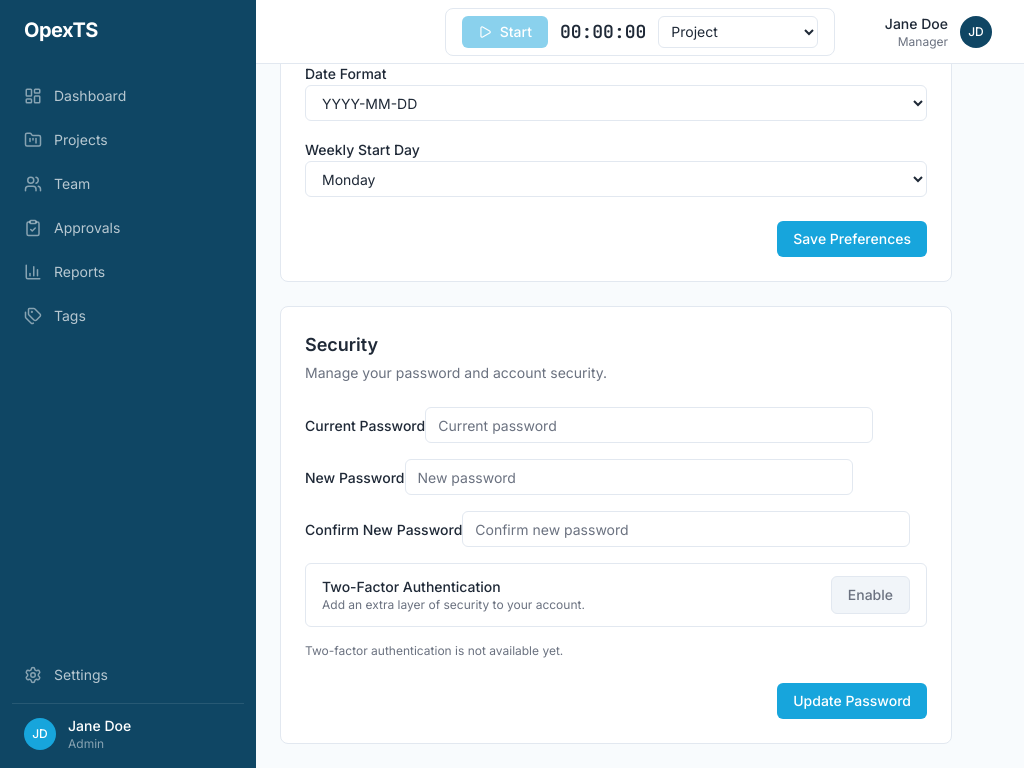
Test case: Profile page › posts a password change and clears the form on success
(page scrolled)
Type "old-pass" into the password field labelled "Current Password".
click(649, 425); type("old-pass")  # box [425,407,873,443]
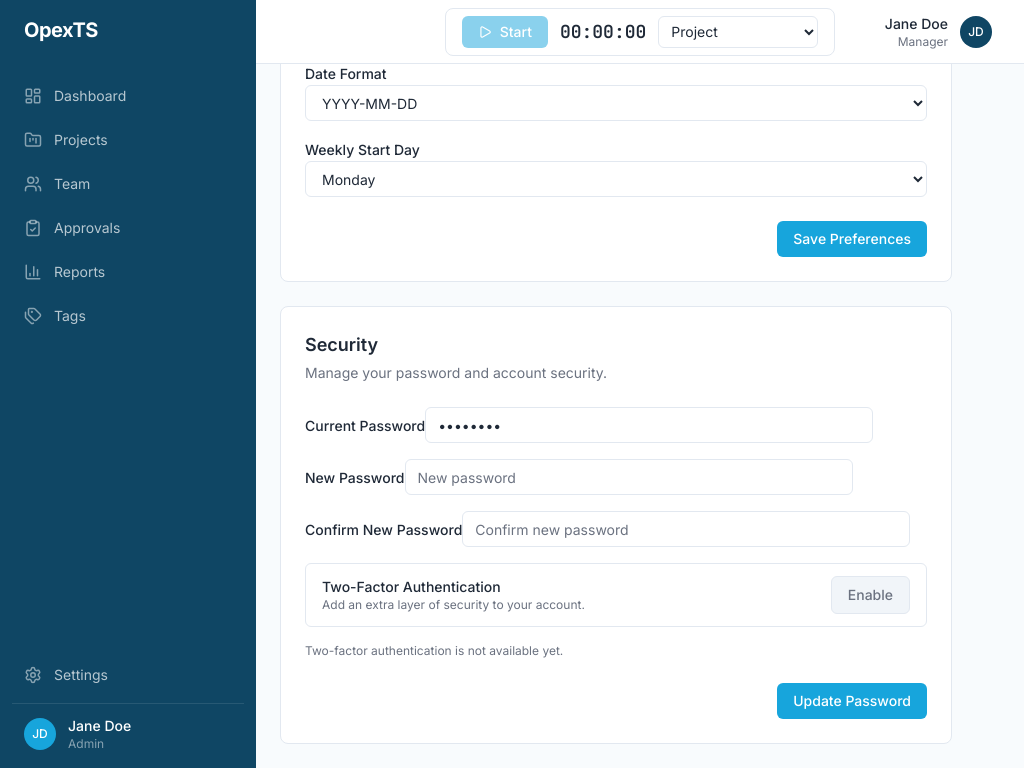
Type "new-secret-1" into the password field labelled "New Password".
click(628, 477); type("new-secret-1")  # box [404,459,852,495]
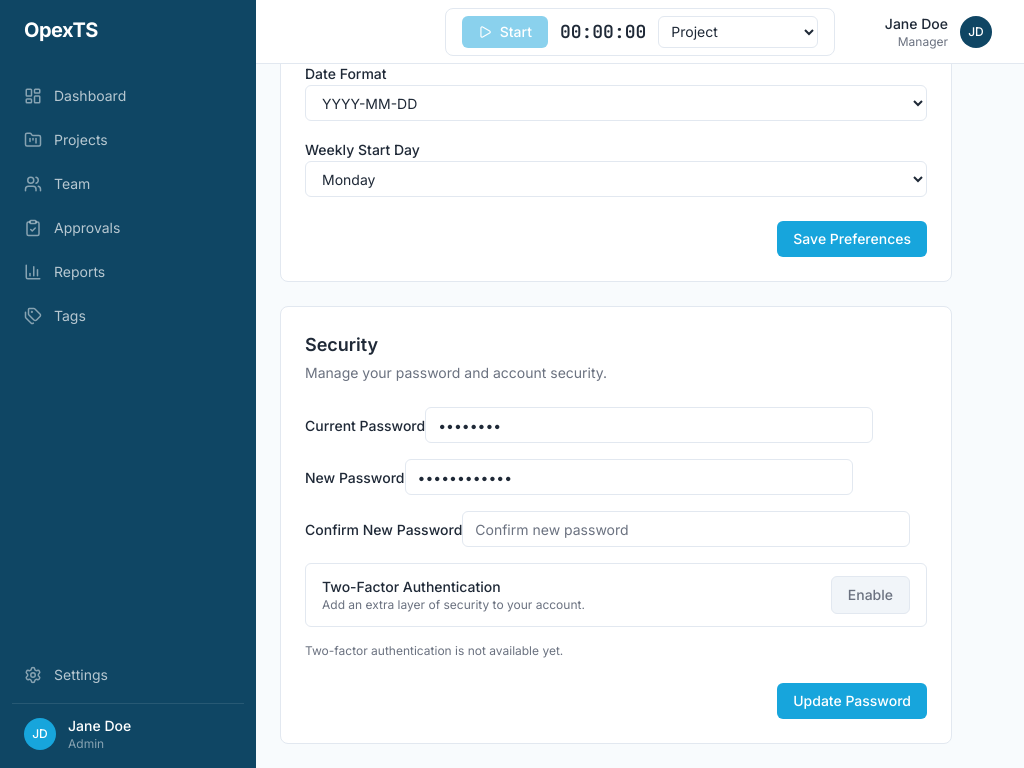
Type "new-secret-1" into the password field labelled "Confirm New Password".
click(686, 529); type("new-secret-1")  # box [462,511,910,547]
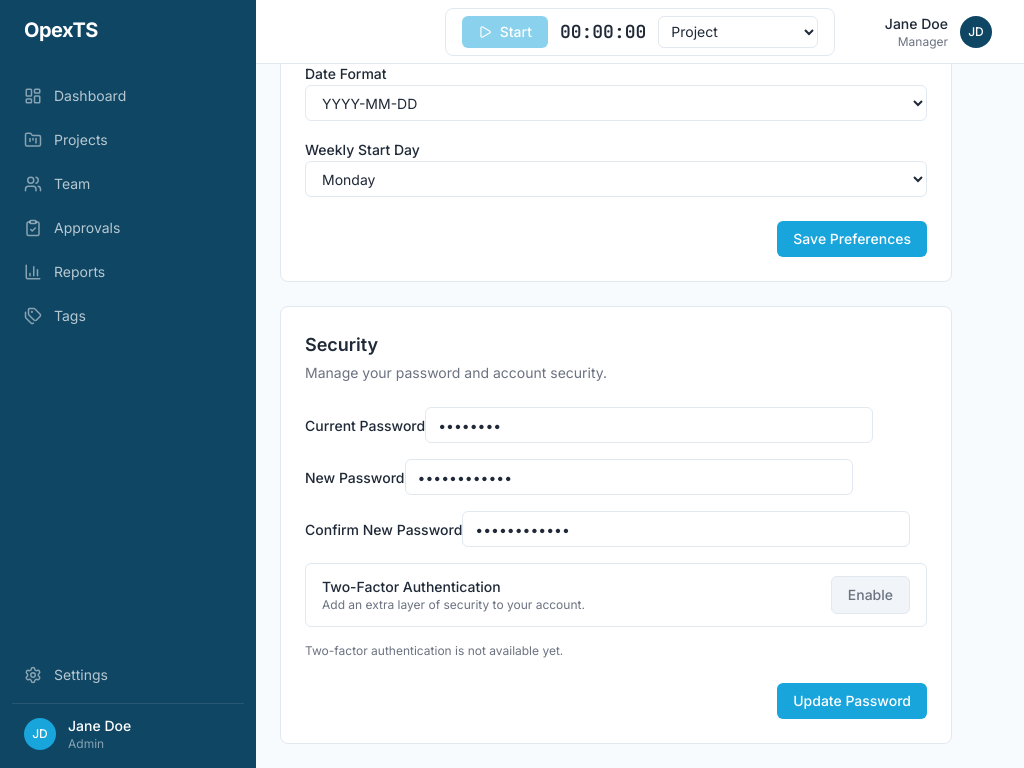
Click the button "Update Password".
click(852, 701)  # box [777,683,927,719]
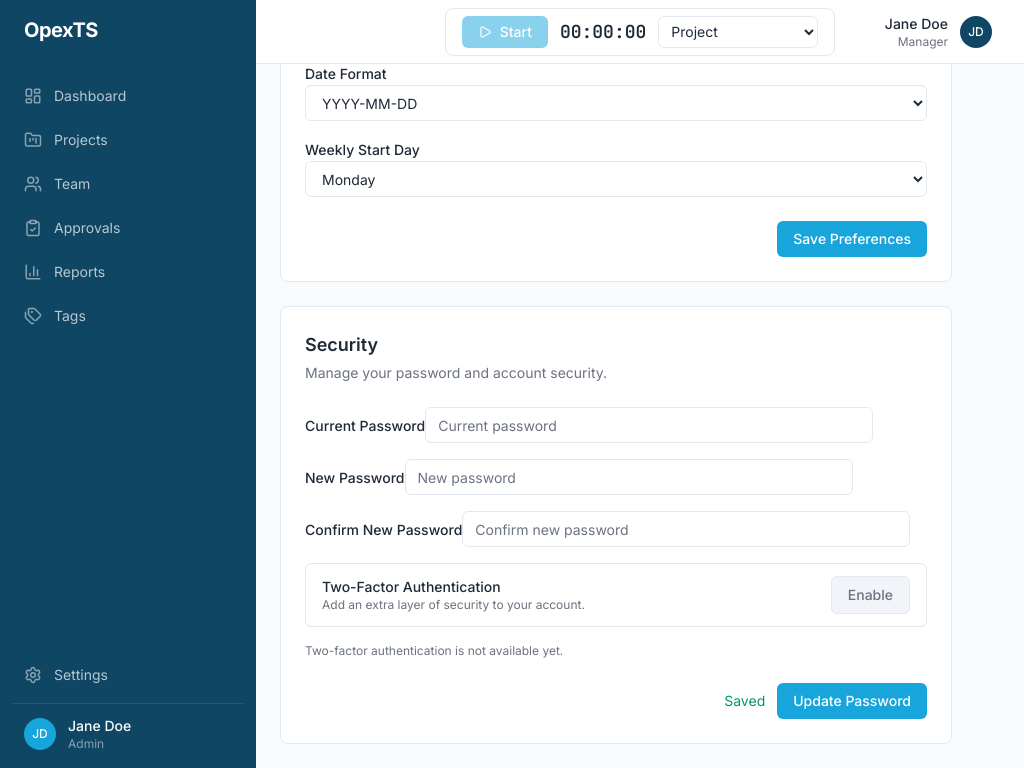
Now the text "Saved" is shown, box [724,691,765,711]
Now the password field labelled "New Password" is empty, box [404,459,852,495]
